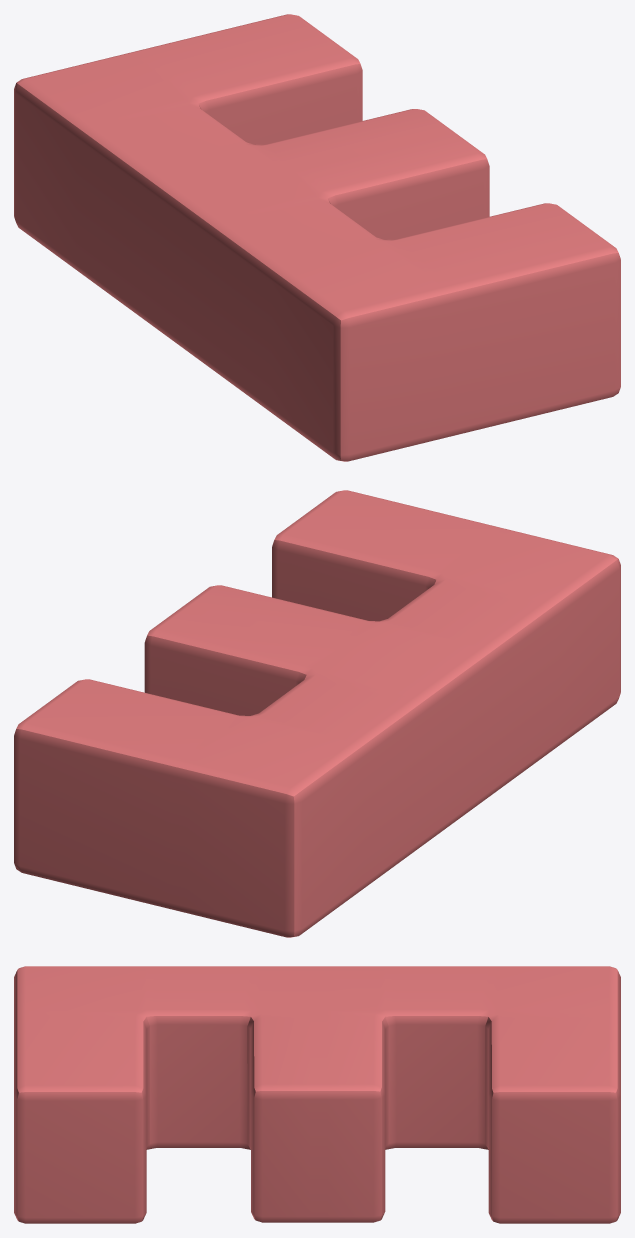
3 renders of one model, top to bottom at view 1: azimuth 30°, elevation 25°; view 2: azimuth 150°, elevation 25°; view 3: azimuth 270°, elevation 25°, orthographic. The views are drawn at different scales.
Parts seen in each view (by area): view 1: pCube2; view 2: pCube2; view 3: pCube2.
Boxes of the visible parts, x1,y1,x2,y2 form: pCube2: [14, 14, 620, 461]; pCube2: [14, 490, 620, 937]; pCube2: [14, 966, 620, 1223].
Size of the model in its own units: 2 by 1 by 3.99.
